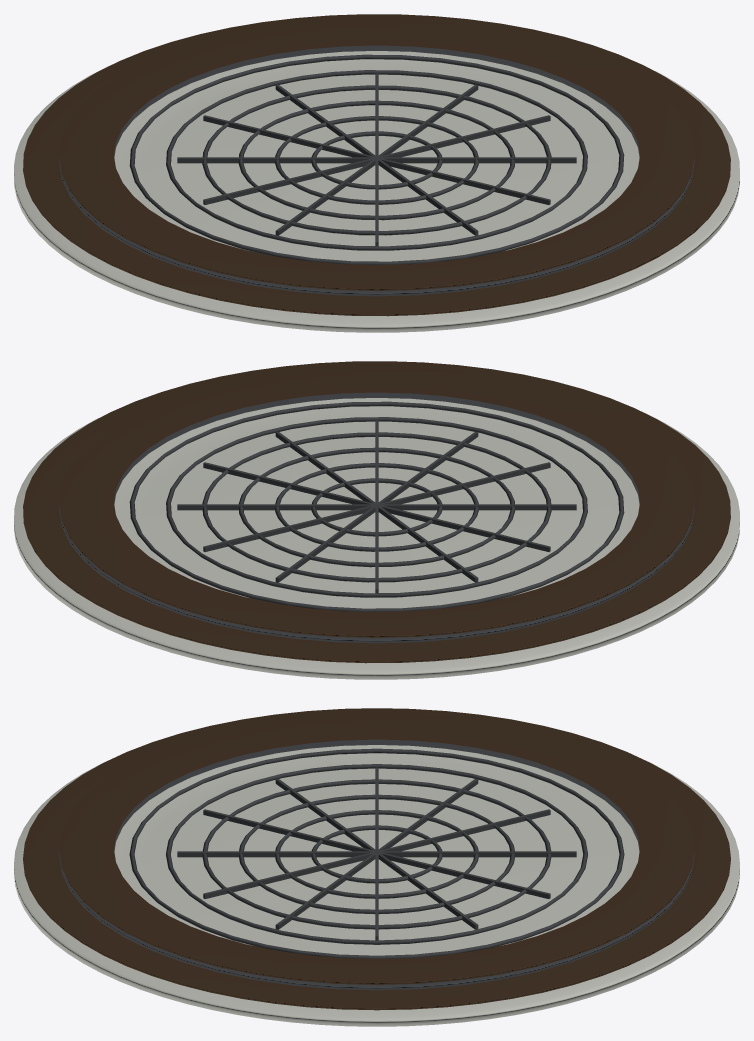
Rendered from sump-plate.glb.
3 renders of one model, top to bottom at view 1: azimuth 30°, elevation 25°; view 2: azimuth 150°, elevation 25°; view 3: azimuth 270°, elevation 25°, orthographic.
Visible parts, largest first — view 1: sump-plate:zincPlate, sump-plate:gasket, sump-plate:darkSteel; view 2: sump-plate:zincPlate, sump-plate:gasket, sump-plate:darkSteel; view 3: sump-plate:zincPlate, sump-plate:gasket, sump-plate:darkSteel.
Boxes of the visible parts, x1,y1,x2,y2 form: sump-plate:zincPlate: (14, 51, 739, 332); sump-plate:gasket: (23, 14, 730, 316); sump-plate:darkSteel: (59, 45, 694, 296); sump-plate:zincPlate: (14, 398, 739, 679); sump-plate:gasket: (23, 361, 730, 663); sump-plate:darkSteel: (59, 392, 694, 643); sump-plate:zincPlate: (14, 745, 739, 1026); sump-plate:gasket: (23, 708, 730, 1010); sump-plate:darkSteel: (59, 739, 694, 990).
Bounding box in the file's own units: 160 × 22.2 × 160.
